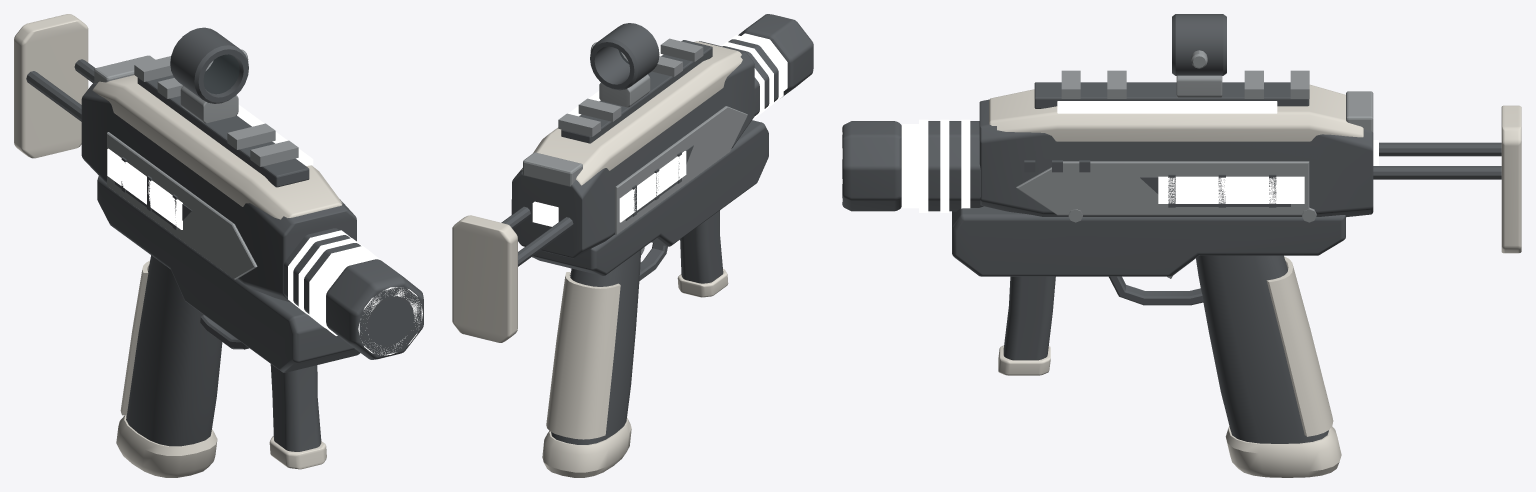
Rendered from LaserSMG.fbx.
The picture shows the model from 3 angles, left to right: view 1: azimuth 30°, elevation 25°; view 2: azimuth 150°, elevation 25°; view 3: azimuth 270°, elevation 25°; orthographic projection. The views are drawn at different scales.
Visible parts, largest first — view 1: SMGReceiverLower, PalmGrip, SMGReceiver, SMGUpperShell, SMGStockPad, SMGEmitterShroud, SMGFlankPlate, RedDotHousing, SMGForegrip, GripHeel, SMGRail, SMGCell (+17 smaller); view 2: SMGReceiver, GripPanel, SMGReceiverLower, SMGStockPad, SMGUpperShell, PalmGrip, SMGFlankPlate, RedDotHousing, GripHeel, SMGEmitterShroud, SMGForegrip, SMGRail (+15 smaller); view 3: SMGReceiverLower, SMGReceiver, PalmGrip, SMGUpperShell, SMGFlankPlate.001, SMGEmitterShroud, GripPanel, SMGCell.001, GripHeel, SMGForegrip, SMGRail, SMGEmitter (+13 smaller).
Boxes of the visible parts, x1,y1,x2,y2 form: SMGReceiverLower: (97,176,359,372); PalmGrip: (126,255,222,446); SMGReceiver: (81,82,356,302); SMGUpperShell: (92,75,342,219); SMGStockPad: (14,14,88,158); SMGEmitterShroud: (326,259,423,359); SMGFlankPlate: (107,132,257,279); RedDotHousing: (170,27,248,103); SMGForegrip: (270,364,321,451); GripHeel: (116,415,217,477); SMGRail: (137,75,309,187); SMGCell: (107,148,182,229); SMGReceiver: (511,41,754,258); GripPanel: (546,272,620,439); SMGReceiverLower: (532,120,768,275); SMGStockPad: (452,215,517,342); SMGUpperShell: (521,41,742,185); PalmGrip: (551,249,641,444); SMGFlankPlate: (615,106,747,234); RedDotHousing: (590,23,659,90); GripHeel: (542,417,631,477); SMGEmitterShroud: (738,14,813,96); SMGForegrip: (680,210,723,283); SMGRail: (561,40,712,143); SMGReceiverLower: (952,206,1345,276); SMGReceiver: (979,99,1373,217); PalmGrip: (1196,255,1328,443); SMGUpperShell: (989,84,1363,141); SMGFlankPlate.001: (1016,161,1309,215); SMGEmitterShroud: (842,121,901,211); GripPanel: (1266,256,1333,436); SMGCell.001: (1158,176,1304,203); GripHeel: (1225,426,1341,477); SMGForegrip: (1003,276,1055,360); SMGRail: (1034,82,1309,108); SMGEmitter: (928,121,983,211).
Size of the model in its own units: 0.122 by 0.537 by 0.742.
